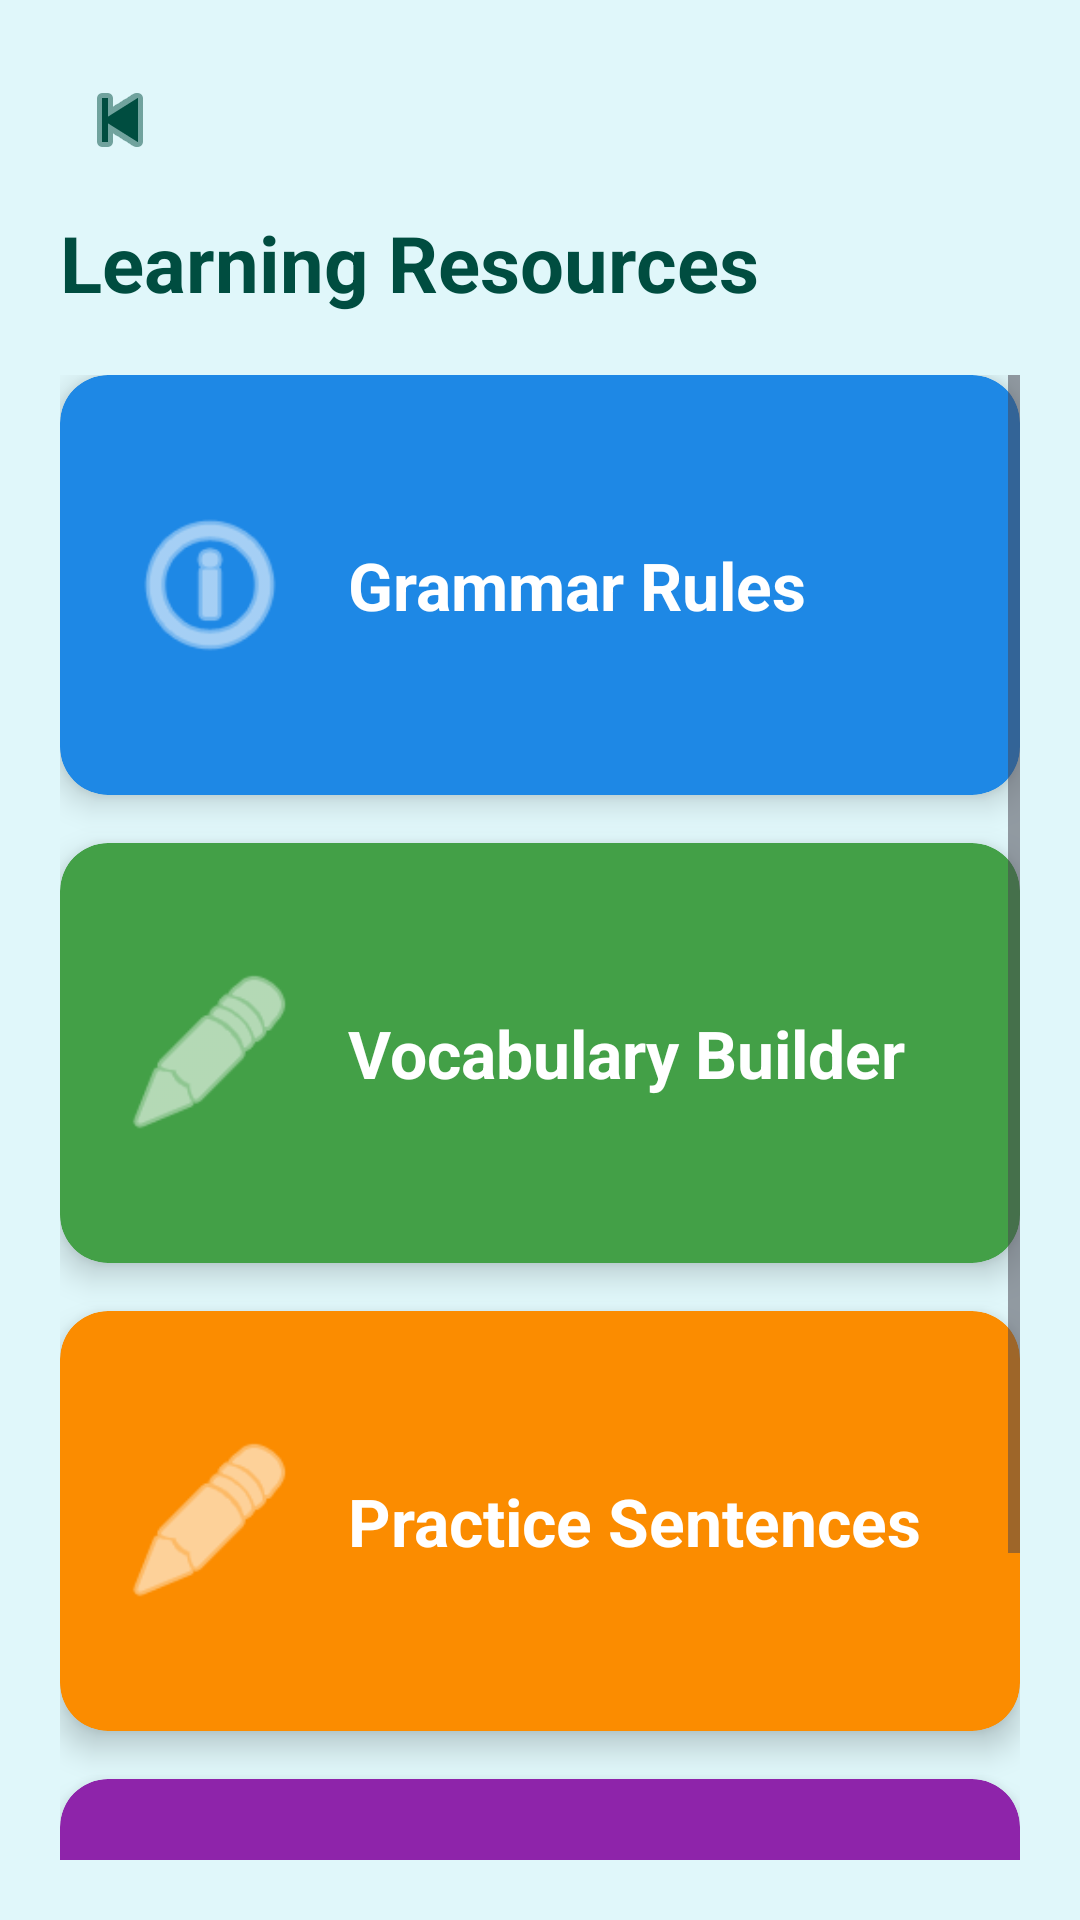

Icon click points for this 1080×1920 phone screenshot, format point (x, y):
edit: point (209, 1052), point (209, 1520)
info details: point (210, 585)
previous: point (120, 120)
